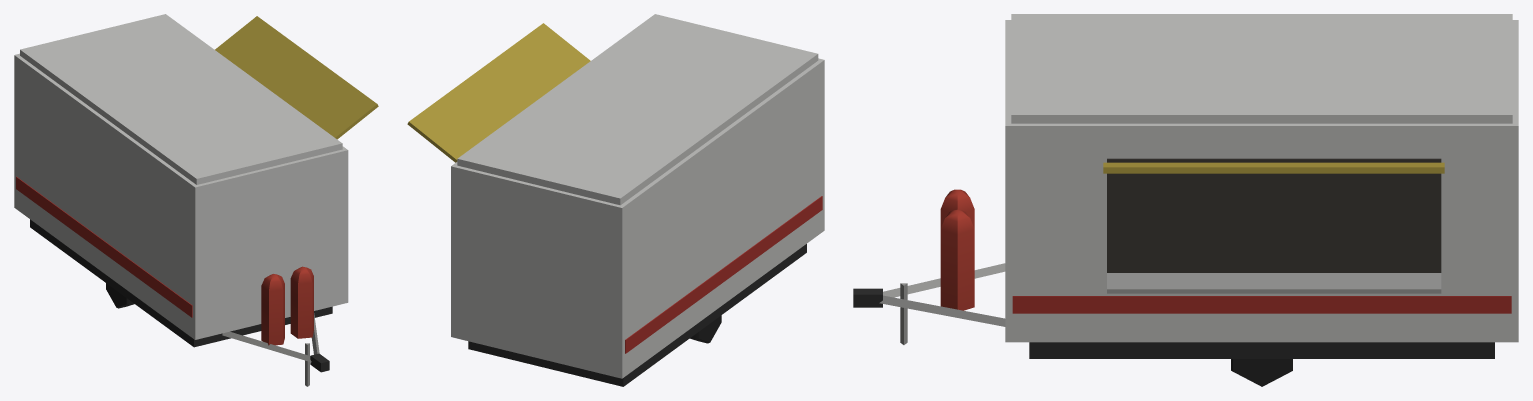
Rendered from SM_Prop_road_burgervan_0_LOD2.glb.
3 views of the same model, side by side, from view 1: azimuth 30°, elevation 25°; view 2: azimuth 150°, elevation 25°; view 3: azimuth 270°, elevation 25° (orthographic). The views are drawn at different scales.
Parts seen in each view (by area): view 1: SM_Prop_road_burgervan_0_LOD2; view 2: SM_Prop_road_burgervan_0_LOD2; view 3: SM_Prop_road_burgervan_0_LOD2.
Part boxes in pixels (bbox=[...]): SM_Prop_road_burgervan_0_LOD2: bbox=[14, 14, 378, 386]; SM_Prop_road_burgervan_0_LOD2: bbox=[407, 14, 824, 386]; SM_Prop_road_burgervan_0_LOD2: bbox=[853, 14, 1518, 386].
Bounding box in the file's own units: 3 × 2.58 × 5.58.
